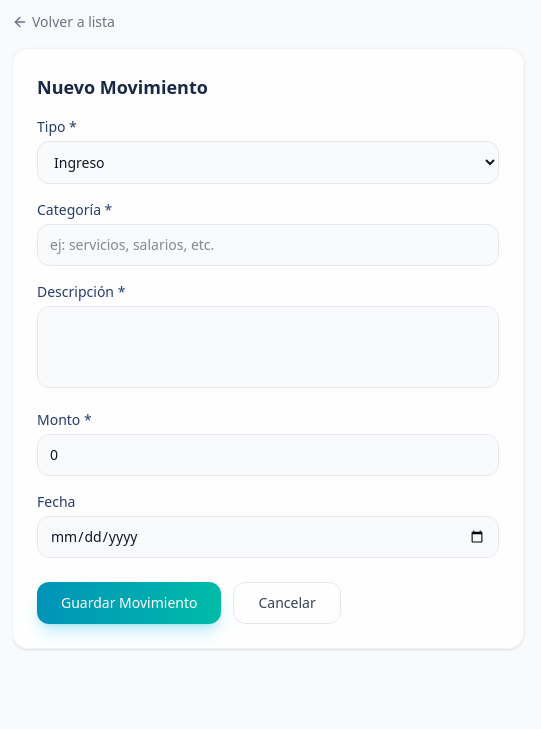
MovimientosCrear › shows error message on API failure
The image size is (541, 729).
Step 1. Type "servicios" into the field labelled "Categoría" → (268, 245), box [37,224,499,266]
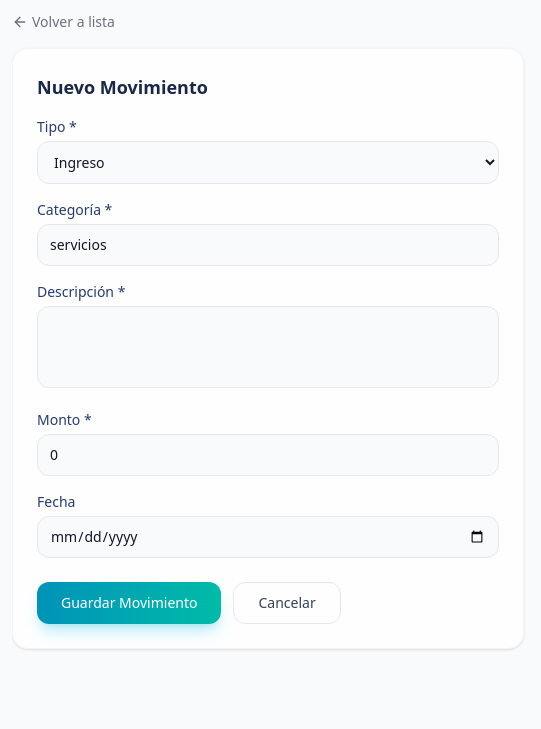
Step 2. Type "pago internet" into the text box labelled "Descripción" → (268, 347), box [37,306,499,388]
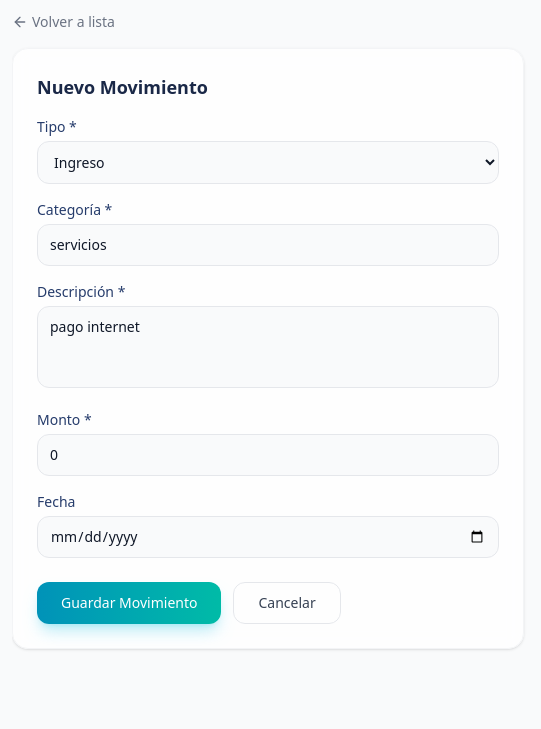
Step 3. Replace the text in the number field labelled "Monto" with "150000" → (268, 455), box [37,434,499,476]
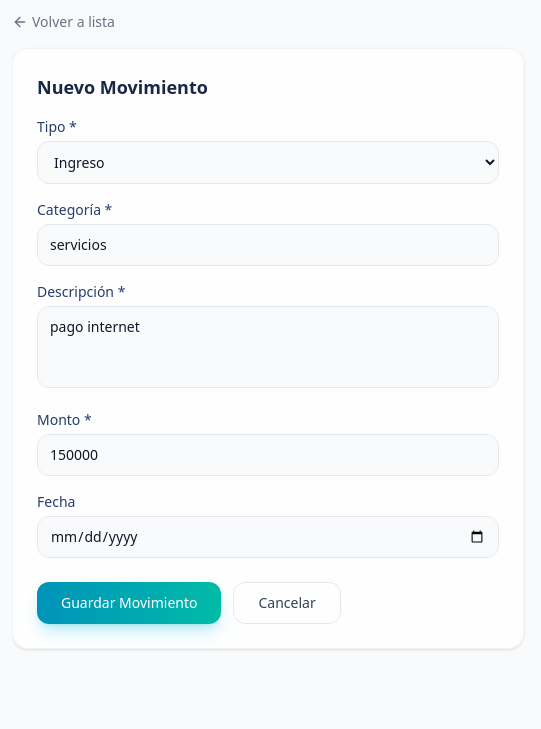
Step 4. Click the button "Guardar Movimiento" → (129, 603), box [37,582,222,624]
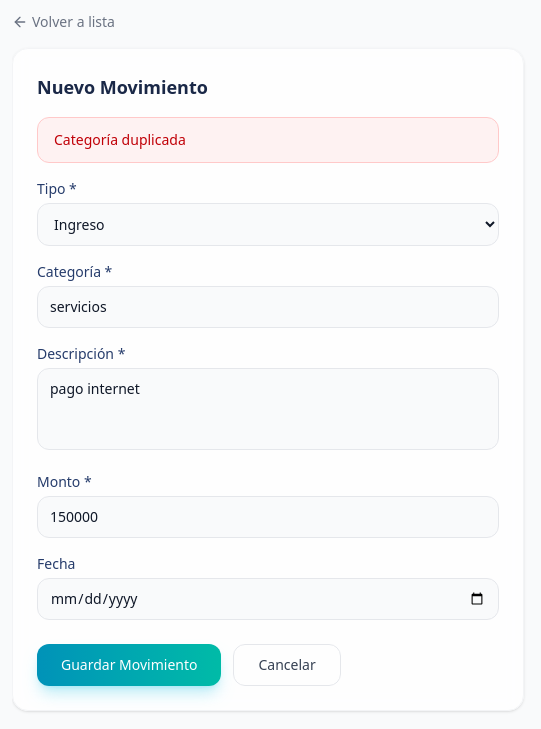
Expected: the text "Categoría duplicada" is shown, [37,117,499,163]
